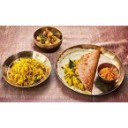dosa: (60, 47, 99, 94)
